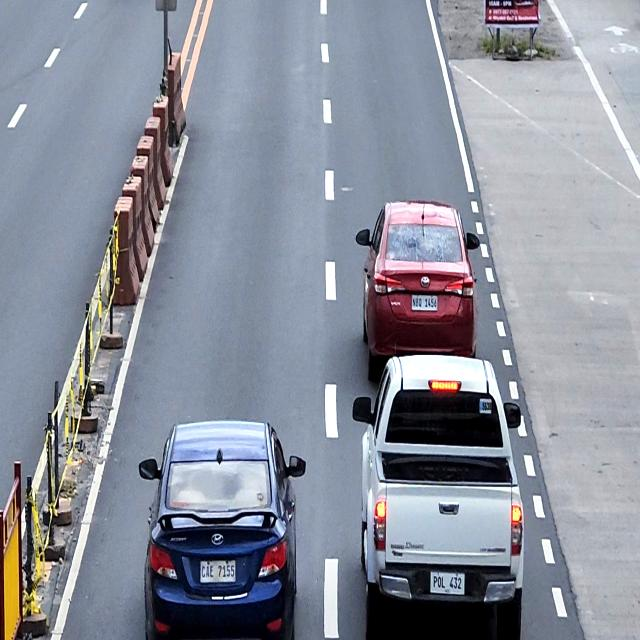Car: (352, 353, 524, 632), (138, 419, 306, 639), (355, 199, 480, 382)
License-Plate: (430, 570, 466, 596), (200, 559, 236, 584), (412, 294, 438, 312)
